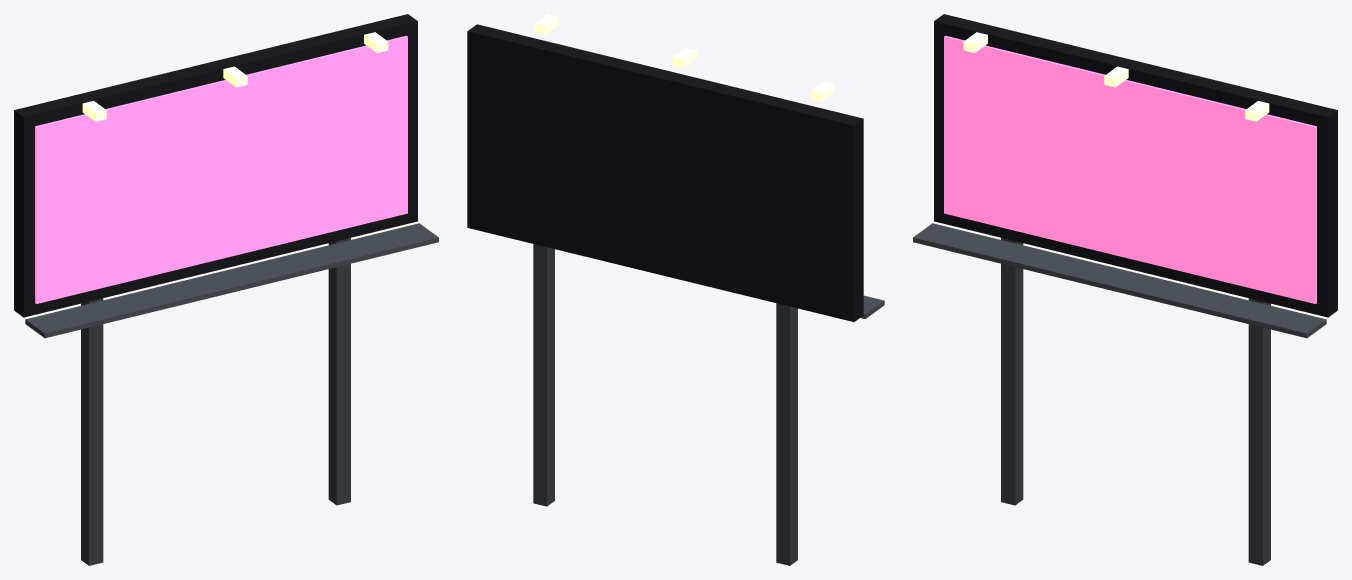
File: billboard.glb
3 views of the same model, side by side, from view 1: azimuth 30°, elevation 25°; view 2: azimuth 150°, elevation 25°; view 3: azimuth 330°, elevation 25° (orthographic).
Visible parts, largest first — view 1: billboard; view 2: billboard; view 3: billboard.
Boxes of the visible parts, x1,y1,x2,y2 form: billboard: (14, 14, 438, 565); billboard: (467, 14, 884, 565); billboard: (913, 14, 1337, 565).
Size of the model in its own units: 7 by 8.02 by 0.95.
